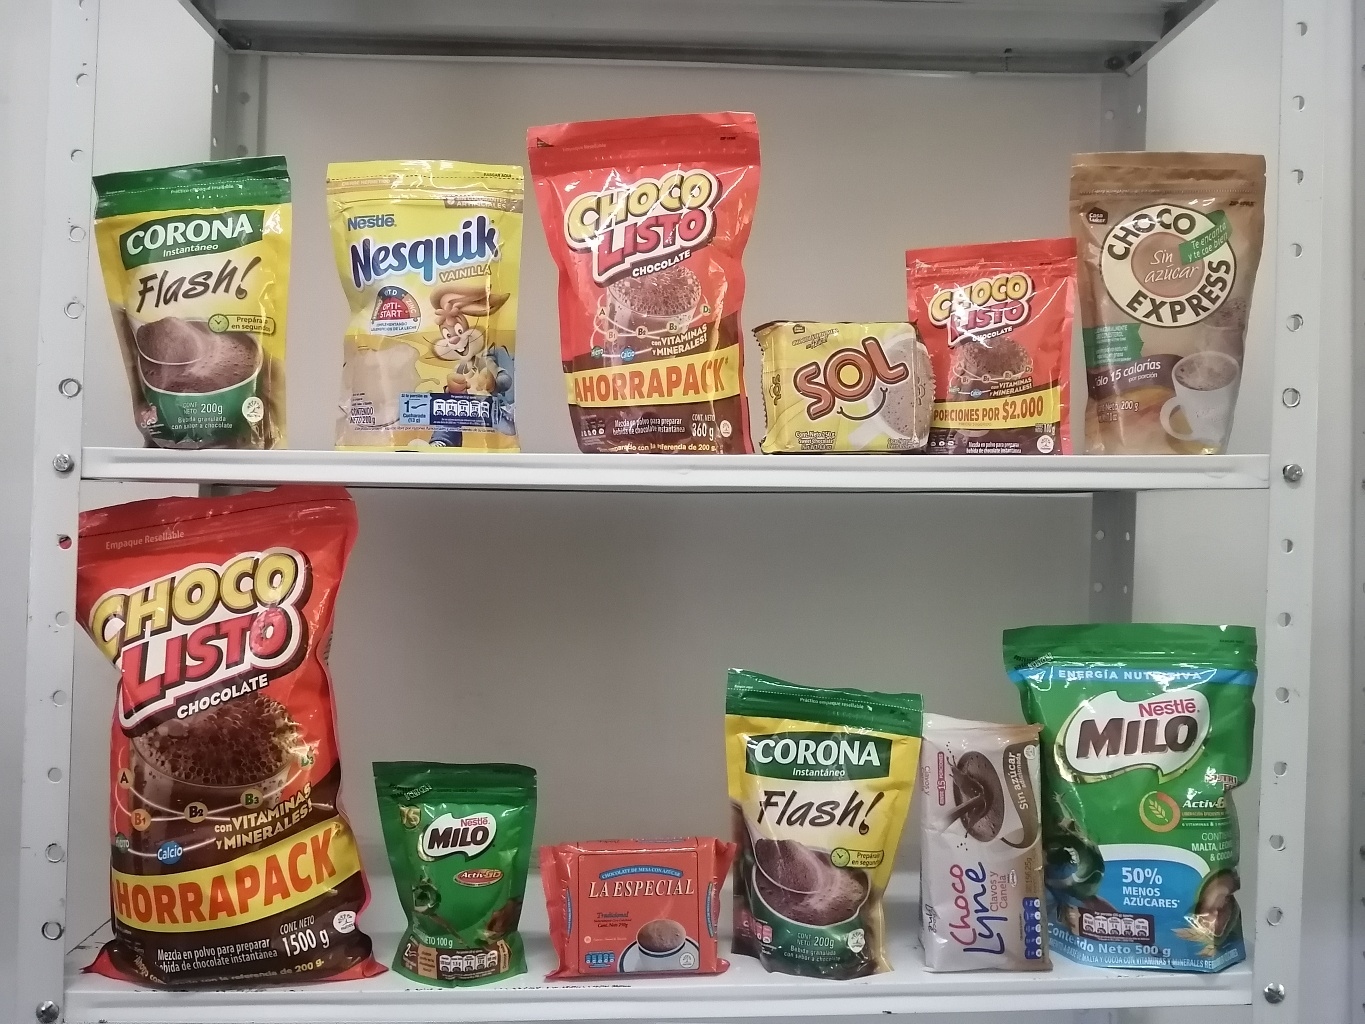COL0170103DYP1,500: (30, 457, 401, 1001)
COL0170103DYP36000: (511, 99, 782, 477)
COL0170203DYP10000: (357, 734, 536, 995)
COL0170205DYP50000: (982, 605, 1295, 976)
COL0170306DYP20000: (314, 151, 548, 455)
